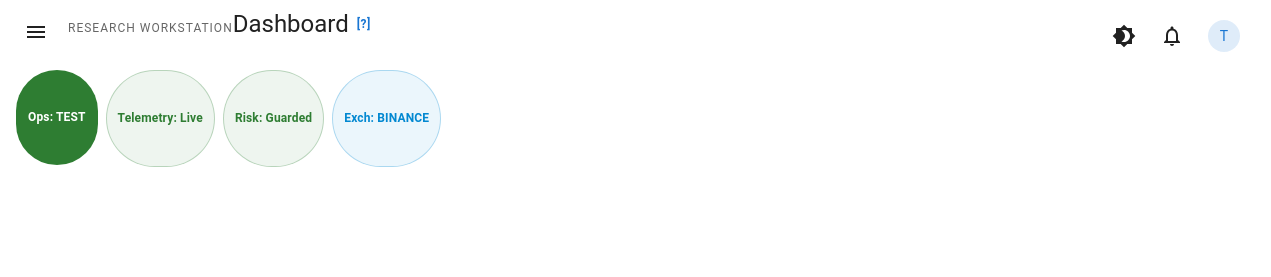
Test case: Header › opens user menu when avatar is clicked
The width and height of the screenshot is (1271, 277).
Step 1. Click the button named "Open account menu" → [1224, 36], box [1200, 12, 1248, 60]
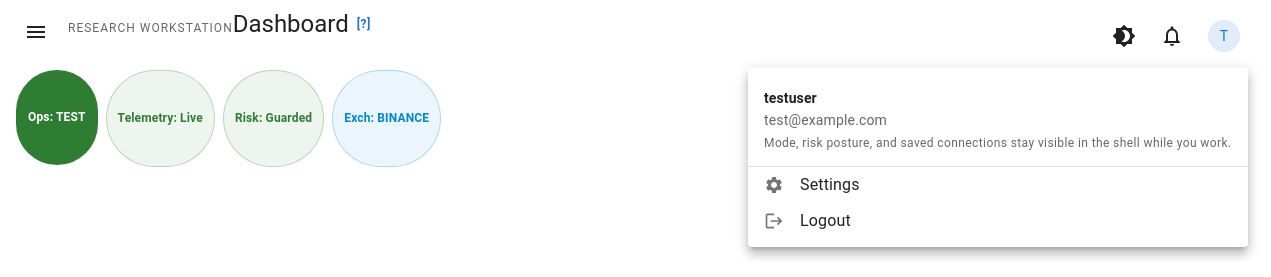
Now the heading "testuser" is shown, box [764, 90, 817, 106]
Now the text "test@example.com" is shown, box [764, 112, 887, 128]
